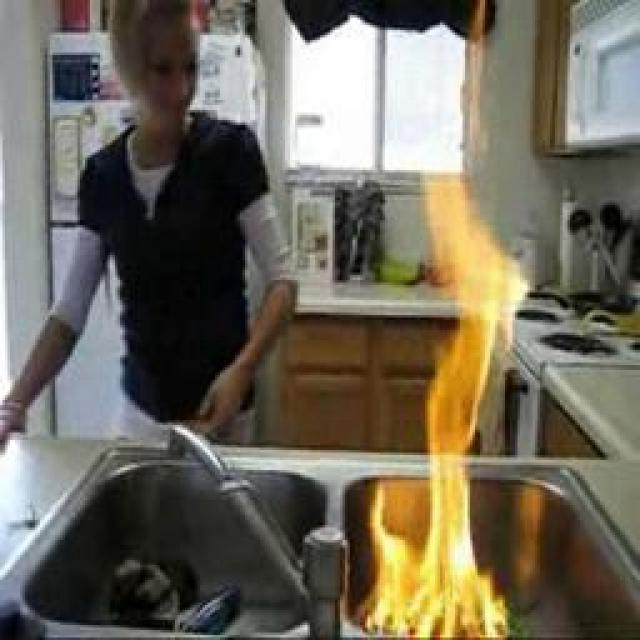Fire: (362, 158, 530, 639)
